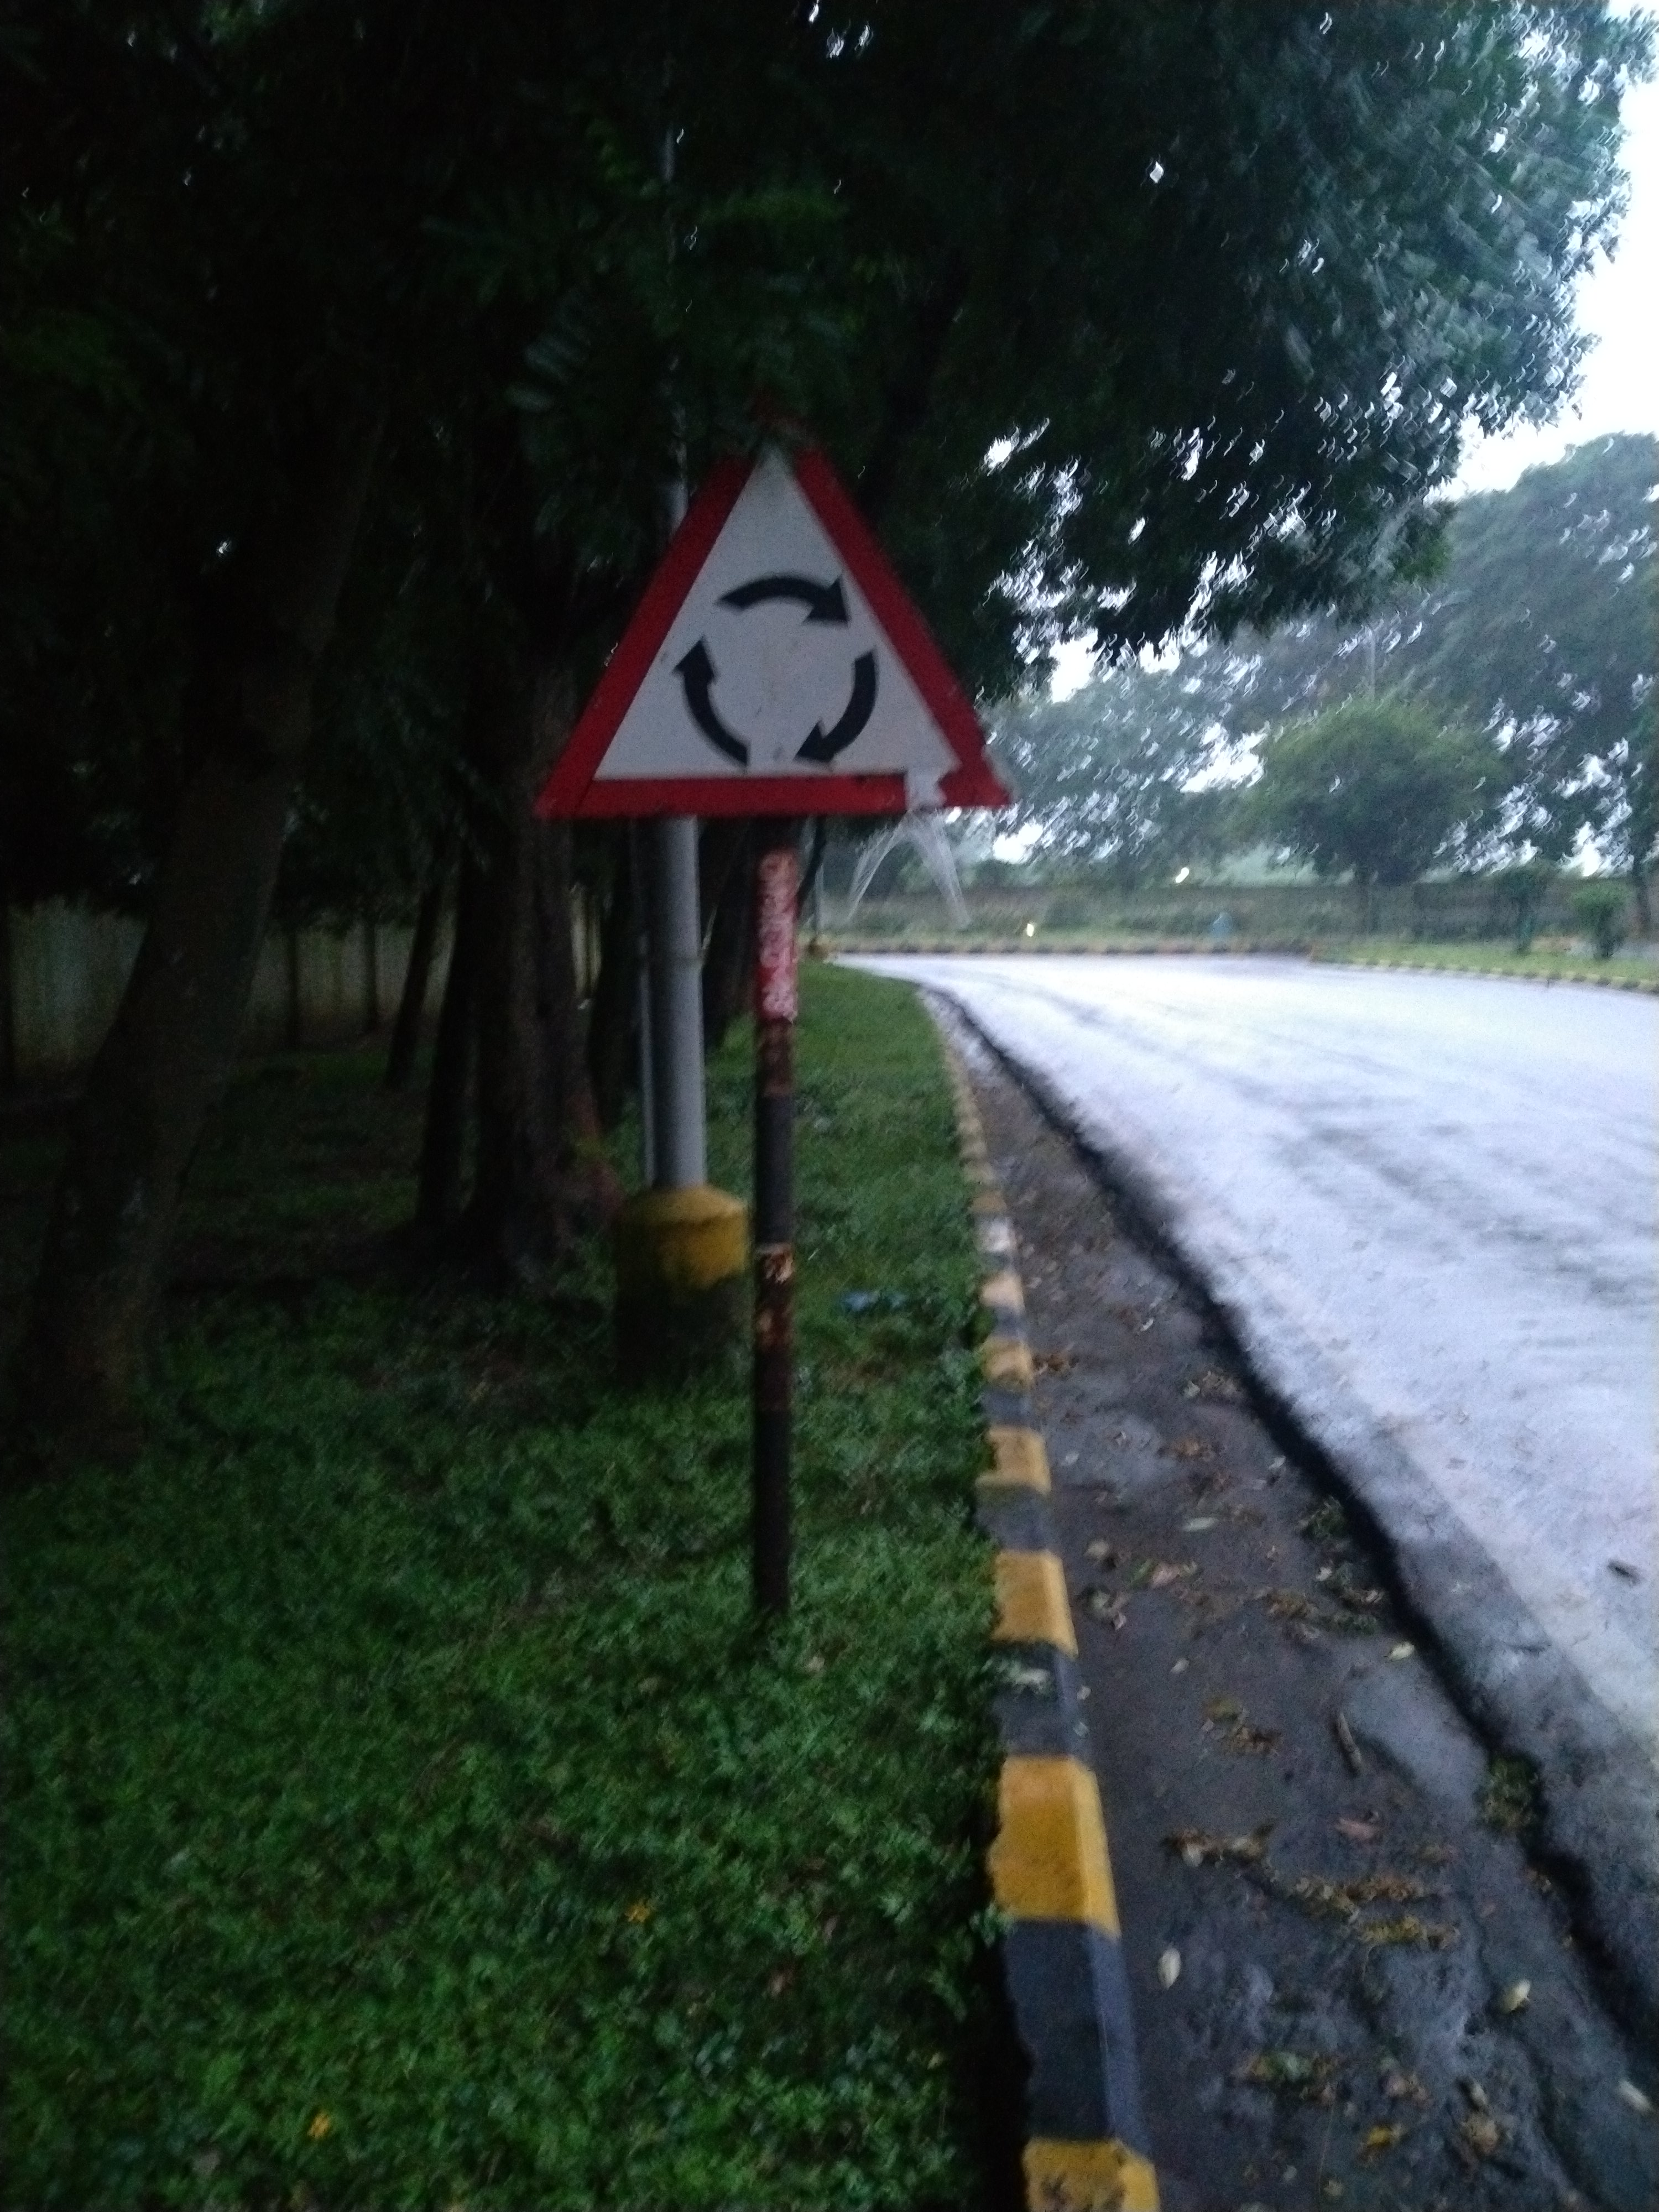traffic_sign: (523, 383, 1009, 826)
